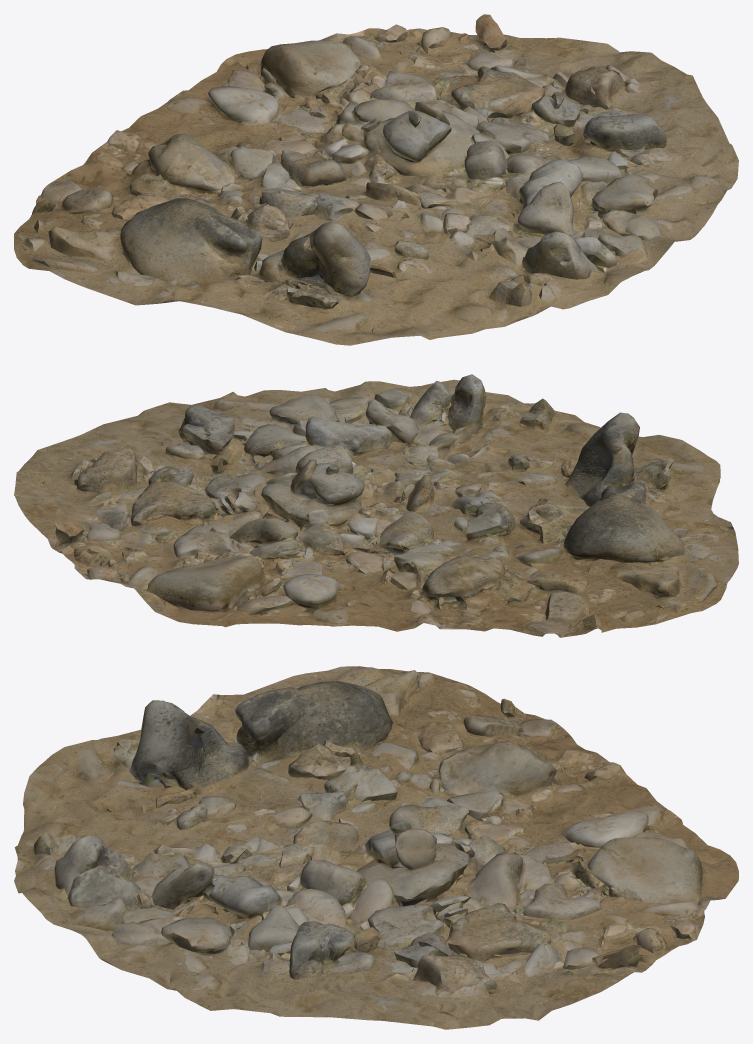
Rendered from lake_stones.glb.
The picture shows the model from 3 angles, top to bottom: view 1: azimuth 30°, elevation 25°; view 2: azimuth 150°, elevation 25°; view 3: azimuth 270°, elevation 25°; orthographic projection. The views are drawn at different scales.
Parts seen in each view (by area): view 1: lake_stones; view 2: lake_stones; view 3: lake_stones.
Boxes of the visible parts, bbox=[...] form: lake_stones: bbox=[14, 14, 738, 345]; lake_stones: bbox=[14, 374, 738, 637]; lake_stones: bbox=[14, 666, 738, 1029].
Bounding box in the file's own units: 4.63 × 0.5371 × 3.88.
Materials: 1 (1 with a texture image).
